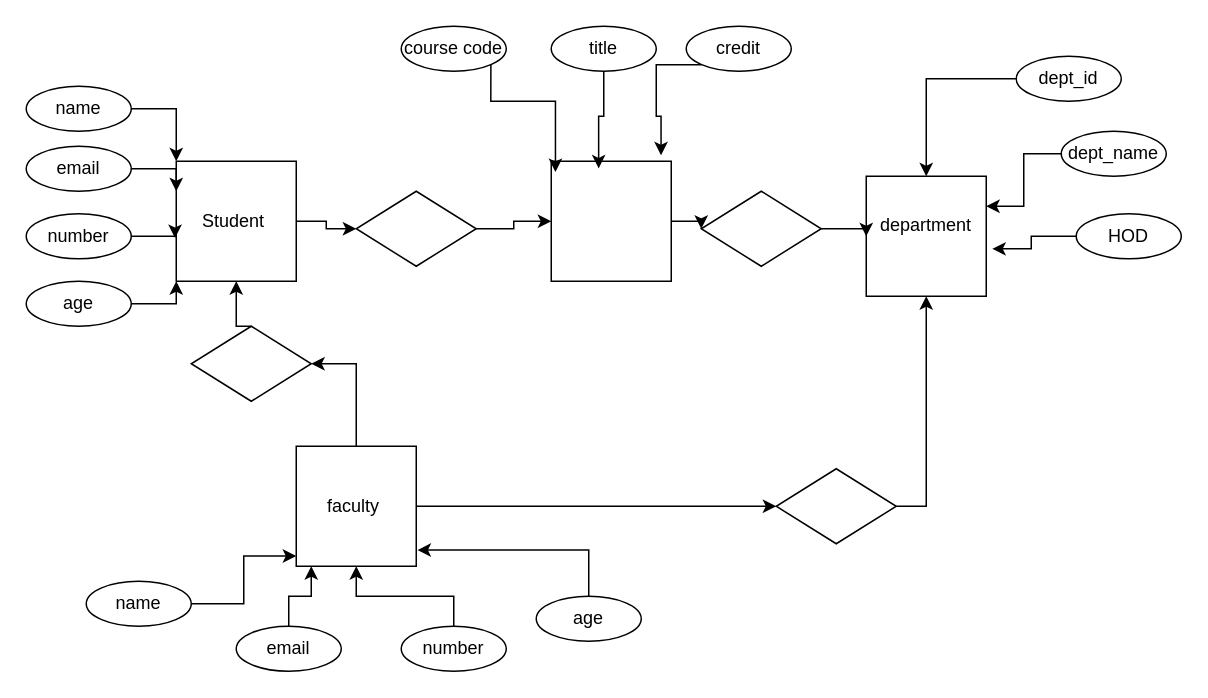
Some shapes in this 1208 by 698 pixel diagram are drawn without their labels. The shapes that lost their labels are listed below. From the top down, each one's centre as x and y in pixels, then its label:
At point (415, 228): "enrolls".
At point (610, 220): "course".
At point (760, 228): "belongs".
At point (250, 363): "teaches".
At point (835, 505): "employeed".
